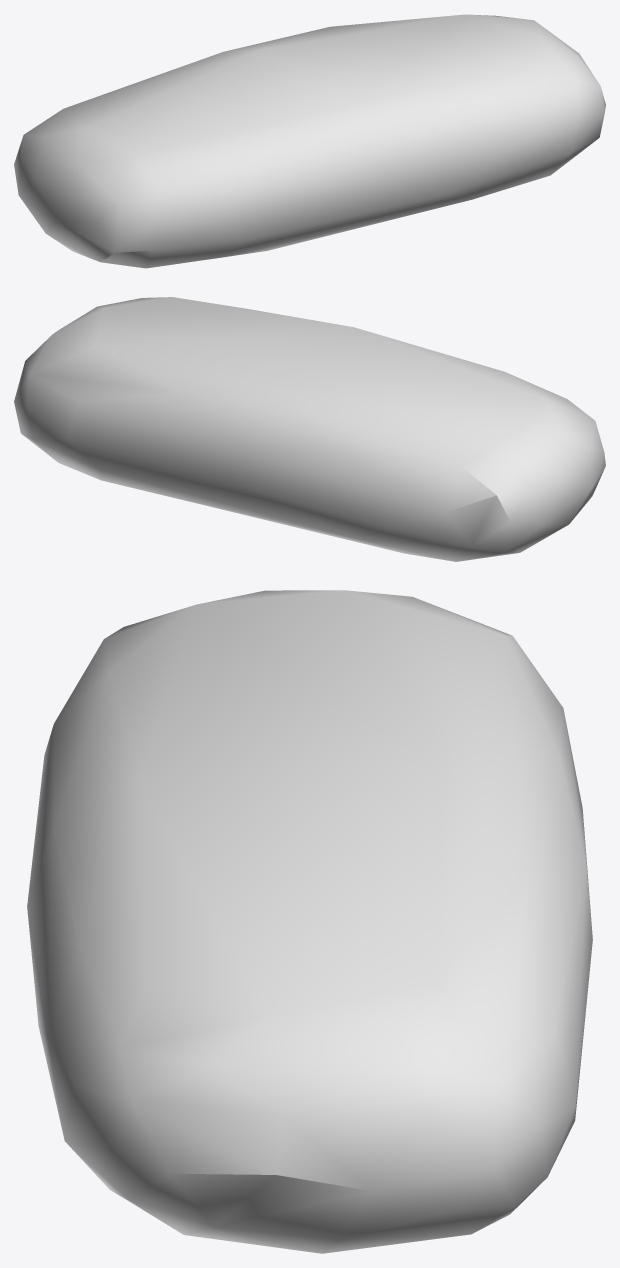
The model's file is bed_pillow.glb.
3 views of the same model, one above another, from view 1: azimuth 30°, elevation 25°; view 2: azimuth 150°, elevation 25°; view 3: azimuth 270°, elevation 25° (orthographic). The views are drawn at different scales.
Visible parts, largest first — view 1: Pillow (Bed); view 2: Pillow (Bed); view 3: Pillow (Bed).
Part boxes in pixels (x1,y1,x2,y2): Pillow (Bed): (14,14,605,268); Pillow (Bed): (14,297,605,561); Pillow (Bed): (27,590,592,1253).
Size of the model in its own units: 0.8352 by 0.1953 by 0.3822.
Materials: 1 (1 with a texture image).
